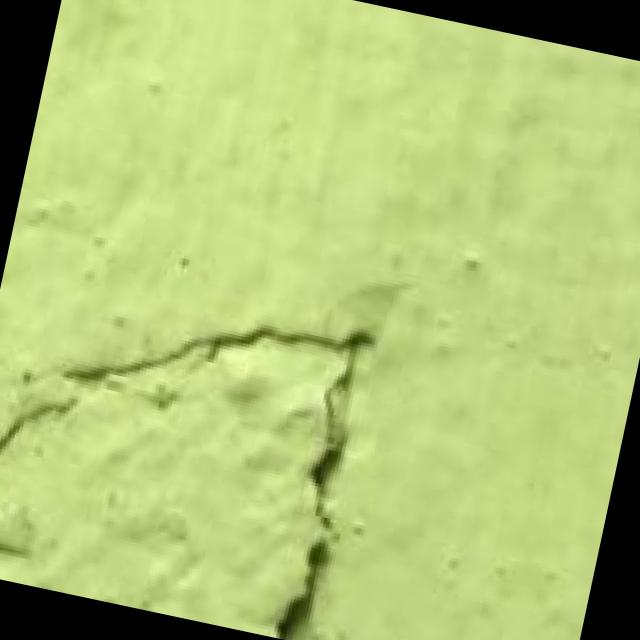crack: (0, 241, 429, 640)
